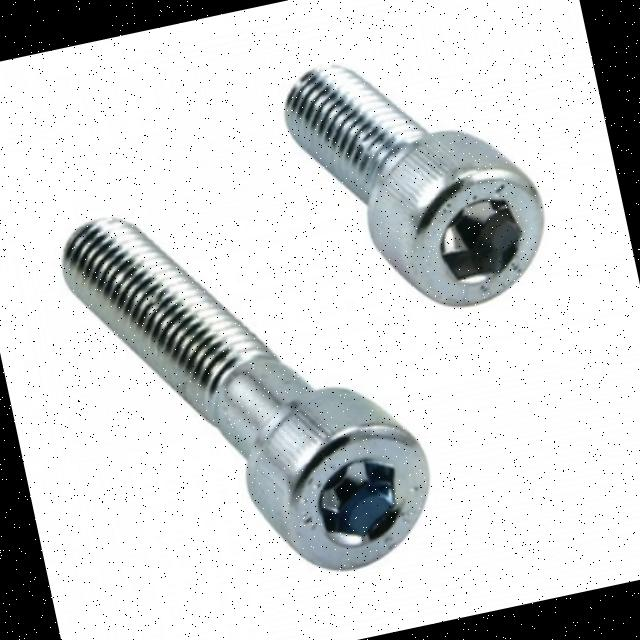Hex Socket Allen: (264, 412, 446, 582), (394, 163, 560, 317)
